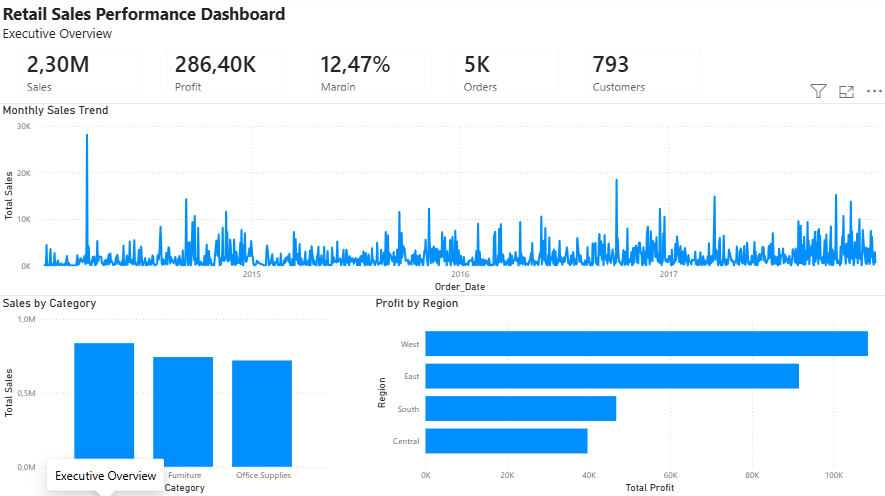

What the dashboard file says about the page in this screenshot:
{"tool":"powerbi","page":{"name":"Executive Overview","canvas":[1280,720],"ordinal":0},"visuals":[{"type":"cardVisual","fields":{"Data":["superstore_cleaned.Total Sales"]},"box":[10.1,57.1,213.3,97.4],"z":0},{"type":"cardVisual","fields":{"Data":["superstore_cleaned.Total Profit"]},"box":[223.4,57.1,210,97.4],"z":1000},{"type":"cardVisual","fields":{"Data":["superstore_cleaned.Total Orders"]},"box":[640,57.1,184.8,97.4],"z":2000},{"type":"cardVisual","fields":{"Data":["superstore_cleaned.Total Customers"]},"box":[824.8,57.1,203.3,97.4],"z":3000},{"type":"cardVisual","fields":{"Data":["superstore_cleaned.Profit Margin"]},"box":[433.4,57.1,206.6,97.4],"z":4000},{"type":"lineChart","title":" Monthly Sales Trend ","fields":{"Y":["superstore_cleaned.Total Sales"],"Category":["superstore_cleaned.Order_Date"]},"box":[0,154.5,1280,277.2],"z":5000},{"type":"clusteredColumnChart","title":"Sales by Category","fields":{"Category":["superstore_cleaned.Category"],"Y":["superstore_cleaned.Total Sales"]},"box":[0,431.7,477.1,288.9],"z":6000},{"type":"clusteredBarChart","title":"Profit by Region ","fields":{"Category":["superstore_cleaned.Region"],"Y":["superstore_cleaned.Total Profit"]},"box":[537.5,431.7,742.5,288.9],"z":7000},{"type":"textbox","box":[0,3.4,1280,68.9],"z":7001}]}

Visuals, with their boxes in screenshot pixels (x1, y1, x2, y2), scaled from the page's 1280x720 canvas onto the 885x496 screenshot:
cardVisual - superstore_cleaned.Total Sales: (7,39,154,106)
cardVisual - superstore_cleaned.Total Profit: (154,39,300,106)
cardVisual - superstore_cleaned.Total Orders: (442,39,570,106)
cardVisual - superstore_cleaned.Total Customers: (570,39,711,106)
cardVisual - superstore_cleaned.Profit Margin: (300,39,442,106)
" Monthly Sales Trend " lineChart: (0,106,884,297)
"Sales by Category" clusteredColumnChart: (0,297,330,495)
"Profit by Region " clusteredBarChart: (372,297,884,495)
textbox: (0,2,884,50)
